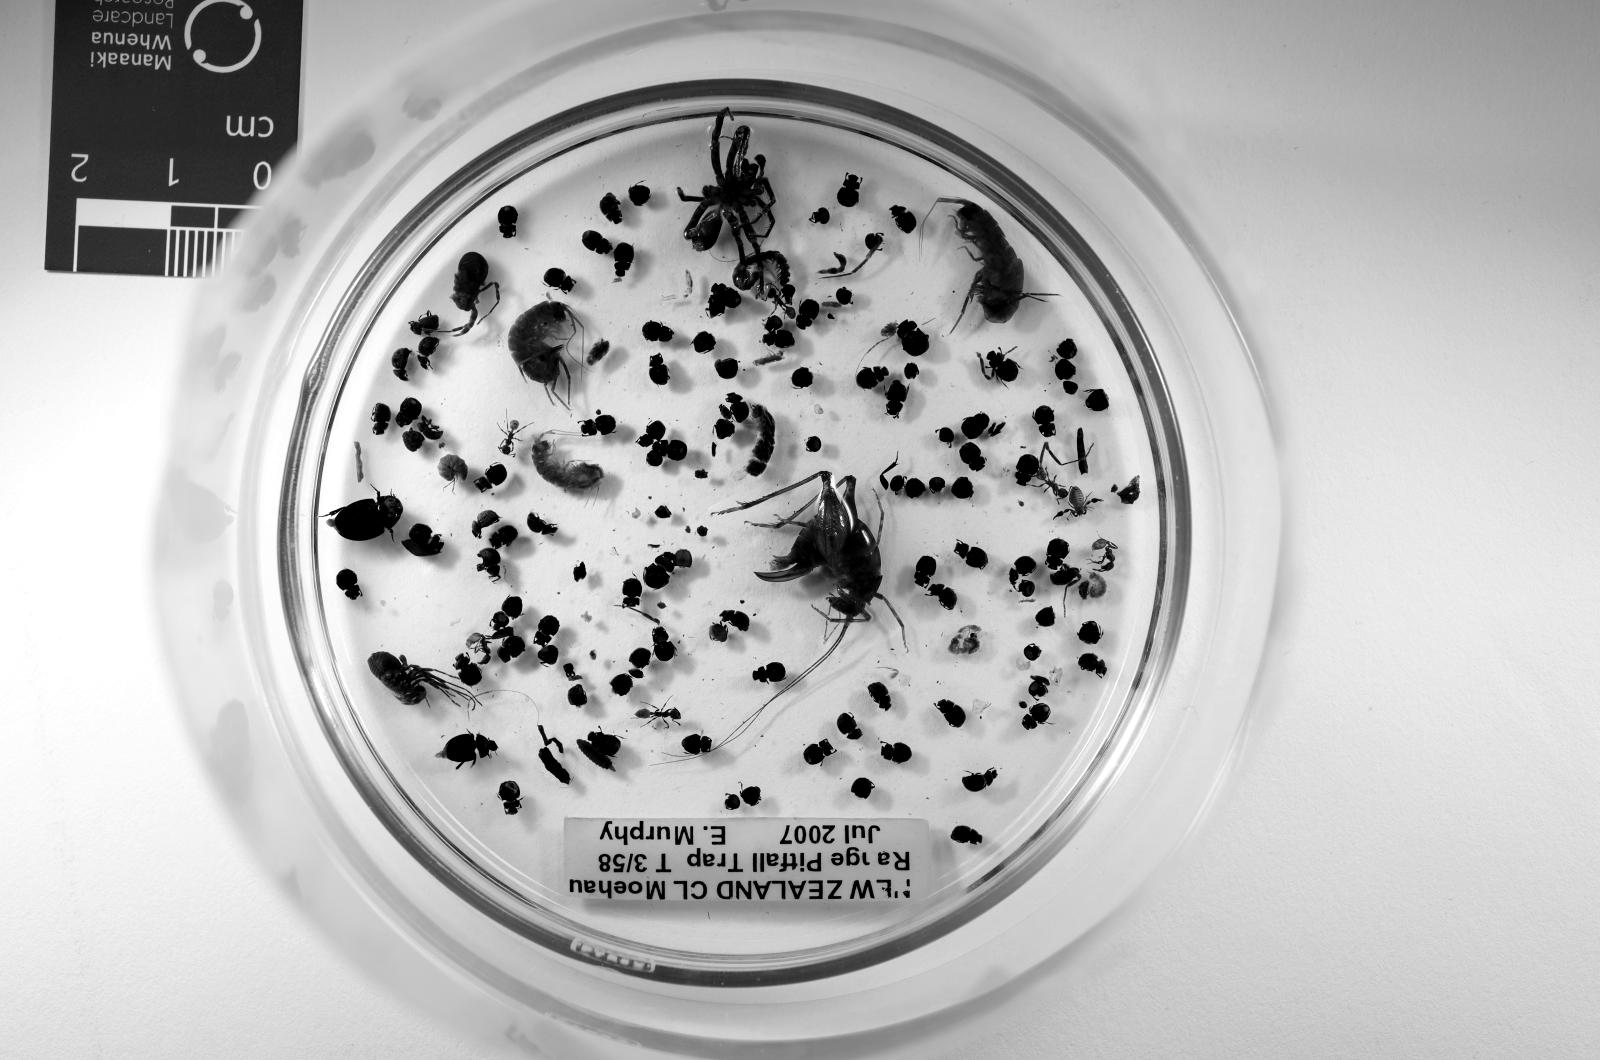amphipoda: (938, 199, 1047, 323), (506, 302, 582, 407), (531, 432, 603, 491), (1088, 571, 1106, 600)
araneae: (678, 109, 775, 260)
coleoptera: (328, 493, 403, 541), (434, 733, 497, 767), (643, 552, 675, 590), (896, 319, 928, 357), (491, 596, 522, 634), (885, 379, 909, 419), (987, 351, 1018, 382), (475, 547, 503, 581), (953, 541, 987, 568), (497, 780, 522, 816), (959, 413, 991, 441), (475, 463, 506, 491), (453, 655, 481, 686), (803, 739, 835, 767), (934, 699, 966, 726), (837, 174, 862, 208), (525, 512, 559, 537), (963, 767, 997, 791), (1010, 556, 1037, 587), (409, 310, 441, 336), (337, 568, 363, 600), (588, 733, 622, 757), (637, 419, 666, 447), (394, 397, 422, 426), (472, 509, 500, 537), (1022, 702, 1050, 730), (1016, 453, 1041, 485), (613, 243, 634, 279), (497, 634, 525, 661), (497, 205, 519, 239), (582, 413, 616, 435), (390, 348, 413, 382), (653, 627, 675, 661), (1047, 537, 1069, 571), (544, 267, 575, 292), (582, 230, 613, 254), (710, 283, 740, 308), (535, 615, 559, 646), (913, 556, 938, 587), (959, 441, 984, 472), (1031, 407, 1056, 438), (643, 319, 675, 342), (881, 742, 913, 764), (890, 205, 915, 233), (415, 416, 443, 441), (600, 193, 622, 224), (719, 608, 750, 631), (753, 661, 784, 684), (681, 733, 713, 755), (1078, 652, 1106, 677), (928, 584, 957, 608), (797, 298, 818, 329), (728, 392, 750, 422), (622, 577, 643, 608), (856, 367, 887, 388), (950, 826, 984, 845), (419, 336, 438, 369), (837, 715, 862, 739), (653, 441, 687, 459), (650, 354, 669, 386), (371, 403, 390, 435), (491, 525, 519, 547), (763, 329, 793, 348), (869, 684, 890, 711)
diplopoda: (731, 252, 791, 292)
formicidae: (1035, 466, 1069, 500), (765, 286, 797, 317), (634, 707, 681, 726), (466, 634, 491, 665), (1094, 537, 1115, 571), (500, 419, 519, 457)
isopoda: (438, 453, 468, 481)
opiliones: (369, 652, 475, 705), (451, 252, 500, 336)
orthoptera: (715, 472, 903, 658)
pseudoscorpiones: (1054, 487, 1100, 518)
